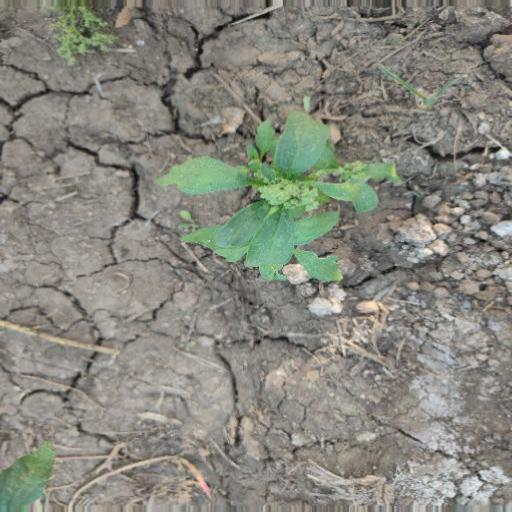weed: (155, 101, 402, 324)
